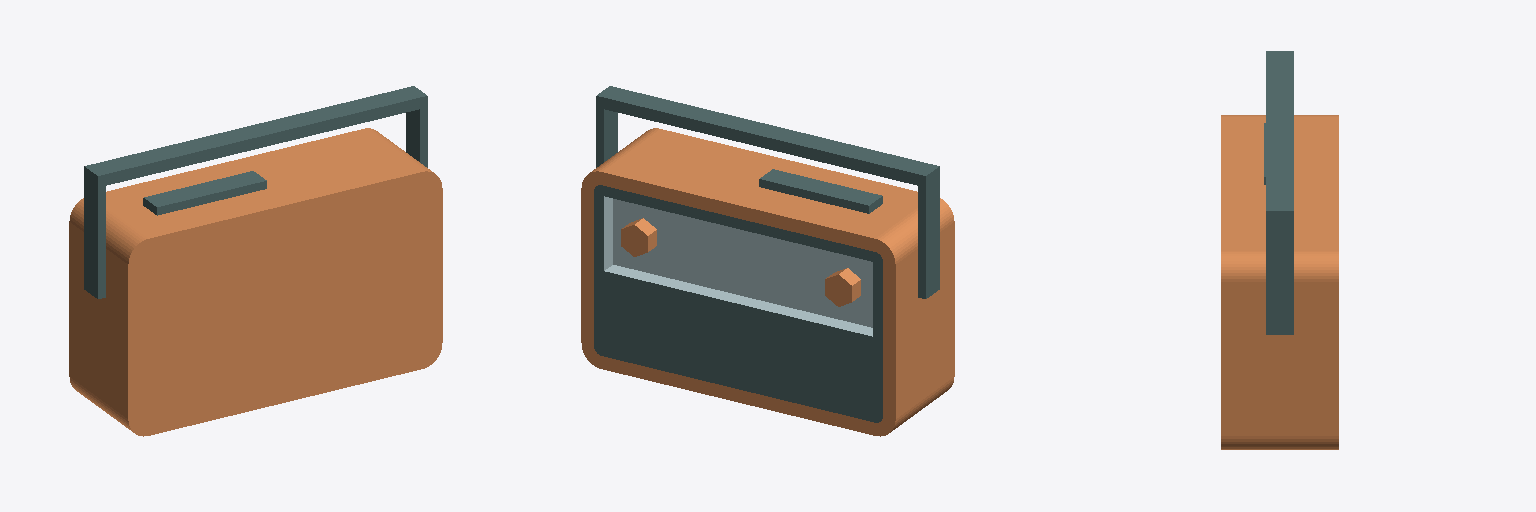
The model's file is radio.obj.
The picture shows the model from 3 angles: view 1: azimuth 30°, elevation 25°; view 2: azimuth 150°, elevation 25°; view 3: azimuth 270°, elevation 25°; orthographic projection.
Visible parts, largest first — view 1: radio; view 2: radio; view 3: radio.
Part boxes in pixels (x1,y1,x2,y2): radio: (69, 86, 442, 436); radio: (581, 86, 954, 436); radio: (1221, 51, 1338, 449).
Size of the model in its own units: 0.315 by 0.2282 by 0.0975.